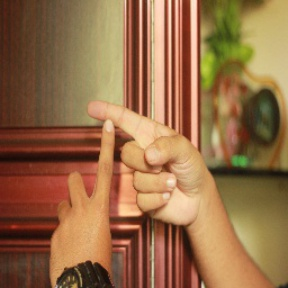T: (61, 89, 168, 219)
